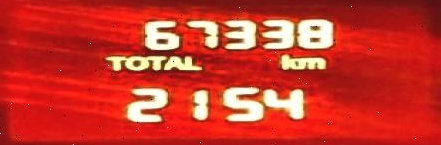1: (189, 88, 209, 121)
2: (122, 87, 169, 123)
3: (220, 18, 256, 49), (260, 18, 294, 49)
4: (261, 87, 304, 119)
5: (219, 86, 263, 121)
6: (142, 19, 179, 50)
7: (183, 19, 217, 48)
8: (296, 18, 333, 49)
X: (296, 56, 326, 69), (122, 55, 147, 70), (161, 55, 185, 70), (104, 55, 127, 70), (145, 55, 166, 70), (182, 55, 202, 70), (280, 53, 295, 70)
